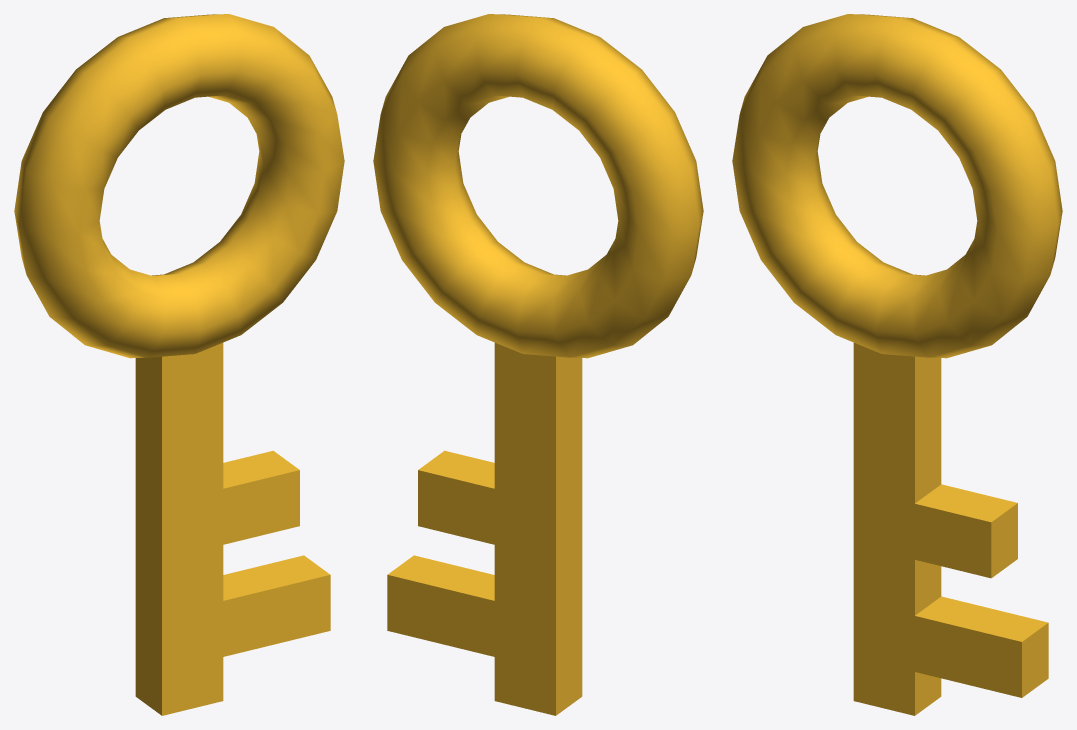
File: key.glb
3 views of the same model, side by side, from view 1: azimuth 30°, elevation 25°; view 2: azimuth 150°, elevation 25°; view 3: azimuth 330°, elevation 25° (orthographic).
Parts seen in each view (by area): view 1: key; view 2: key; view 3: key.
Boxes of the visible parts, left/top/right/bottom form: key: left=14, top=14, right=344, bottom=715; key: left=373, top=14, right=703, bottom=715; key: left=732, top=14, right=1062, bottom=715.
Size of the model in its own units: 0.42 by 0.85 by 0.1.
